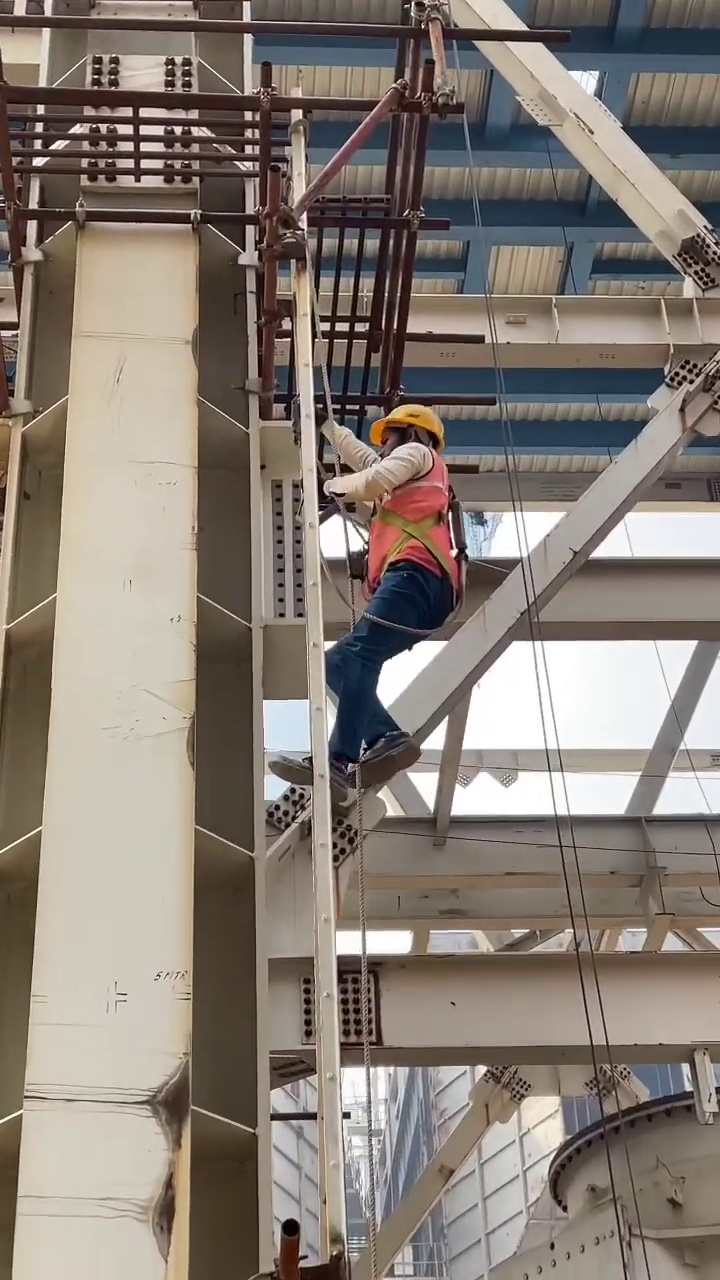Helmet: (374, 406, 449, 447)
Person: (273, 406, 467, 801)
Safety_Harness: (339, 451, 467, 636)
Safety_shoes: (269, 753, 352, 803), (353, 733, 420, 788)
